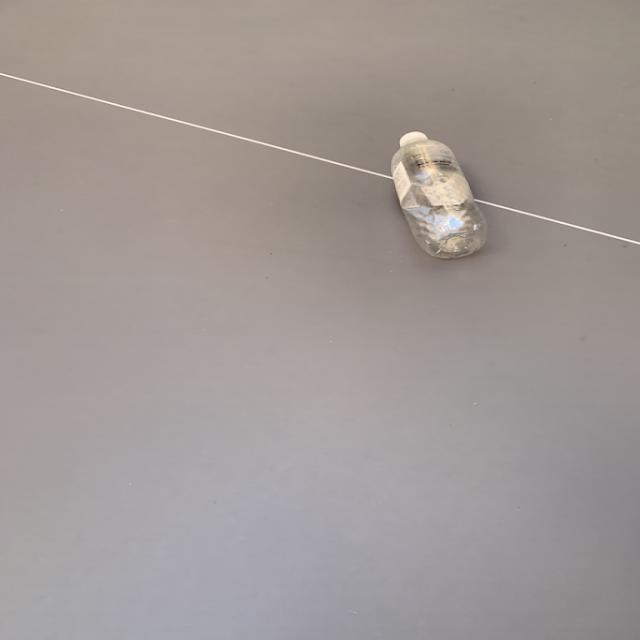Waste: (392, 131, 488, 259)
